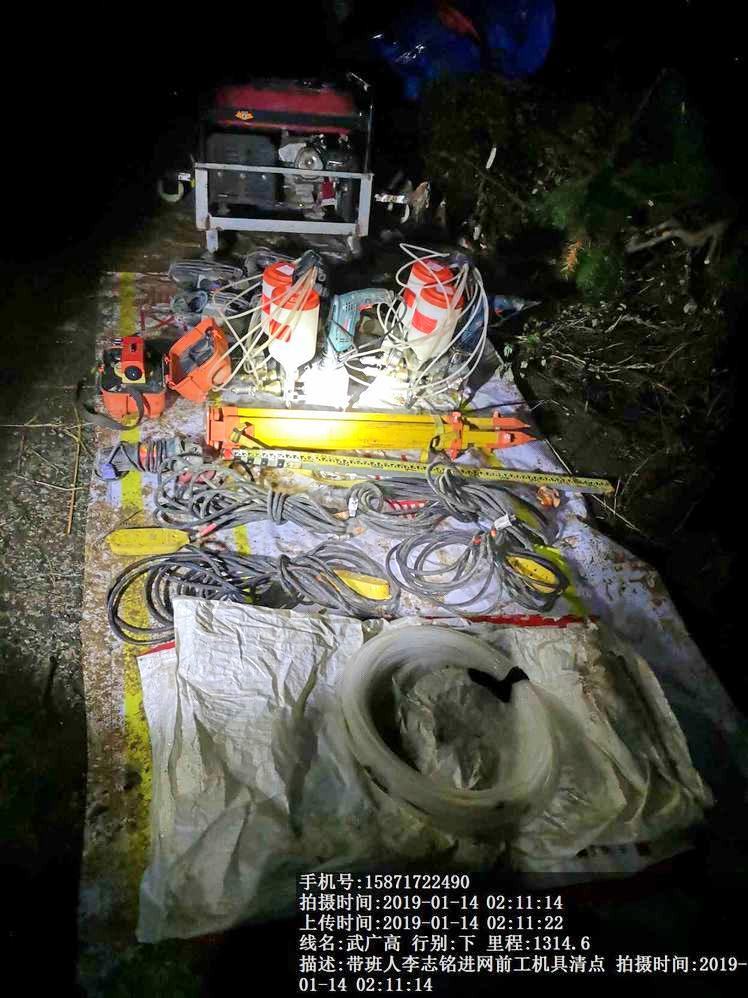BZD: (114, 591, 710, 864)
DJ: (156, 71, 390, 249)
DX: (163, 465, 369, 539)
SG: (336, 635, 552, 816)
